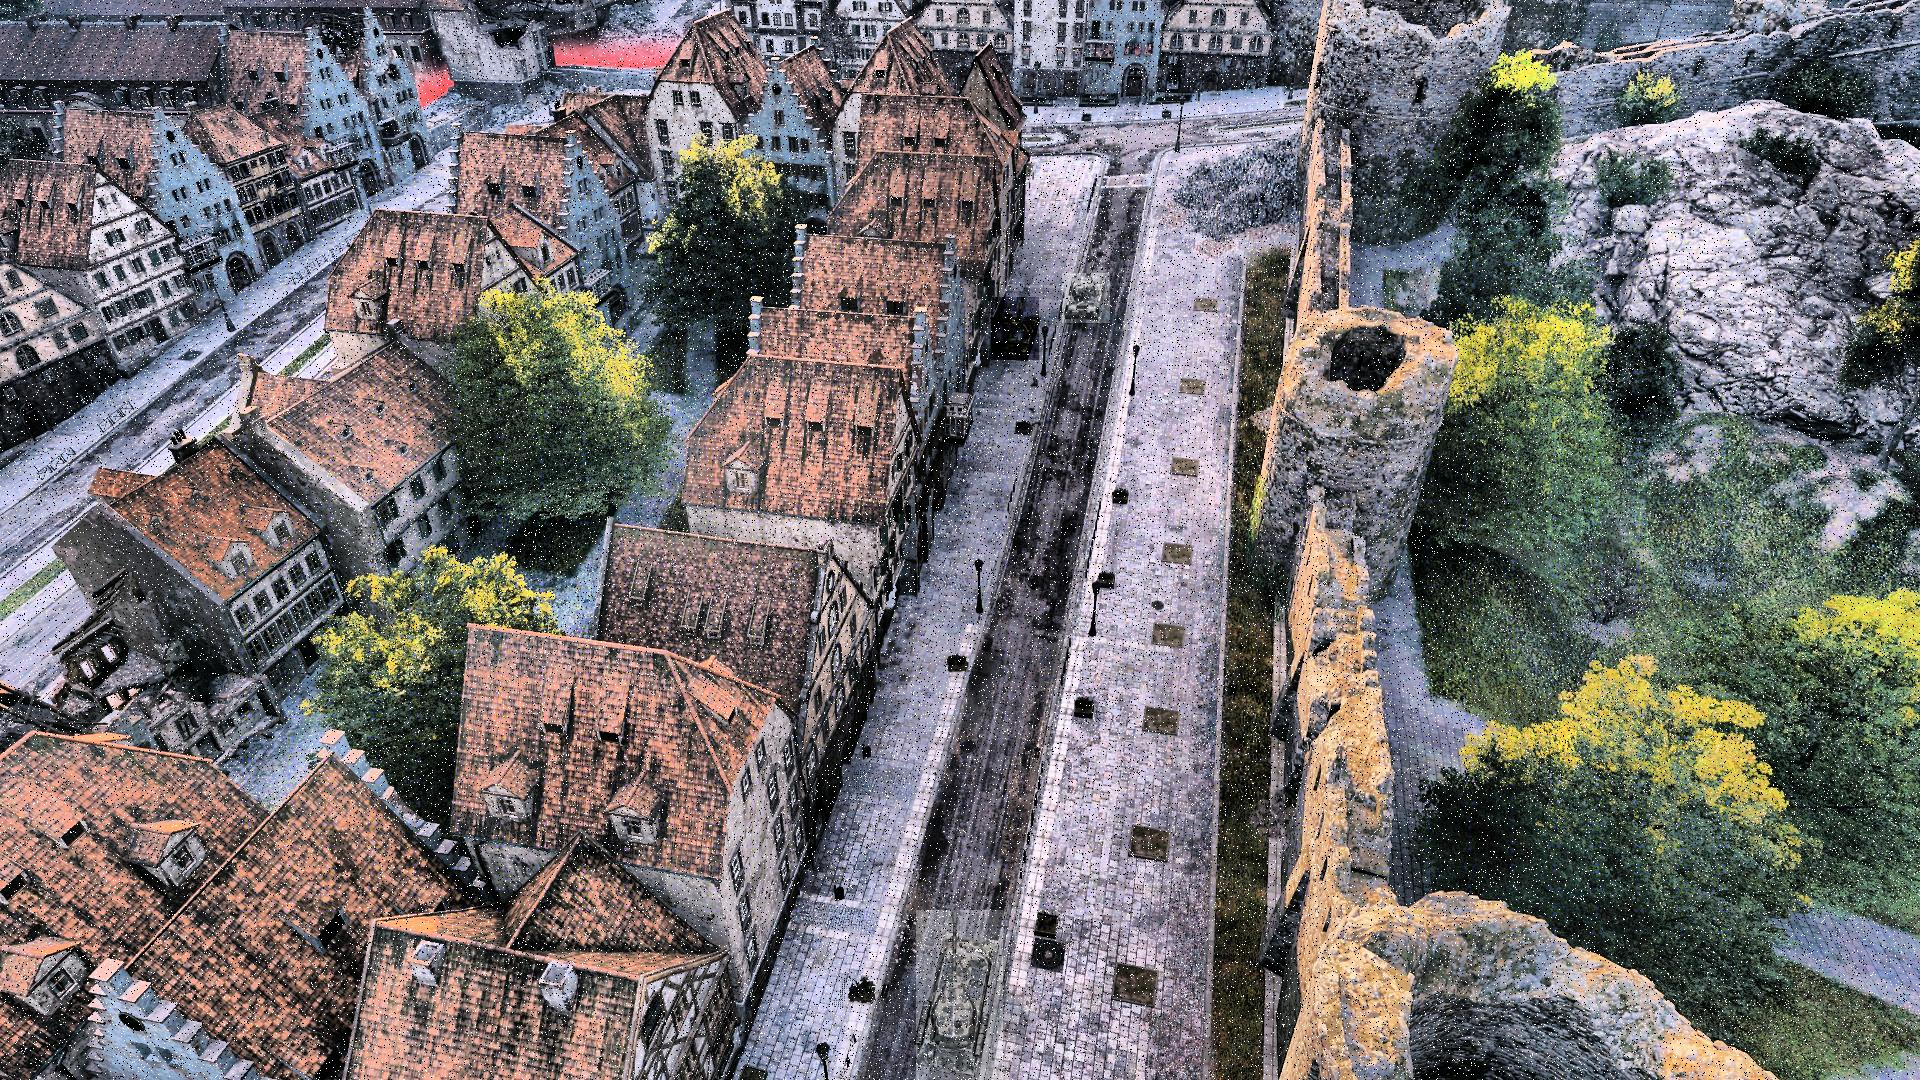military-vehicle: (916, 910, 1003, 1080), (992, 297, 1040, 360), (1063, 274, 1111, 324)
